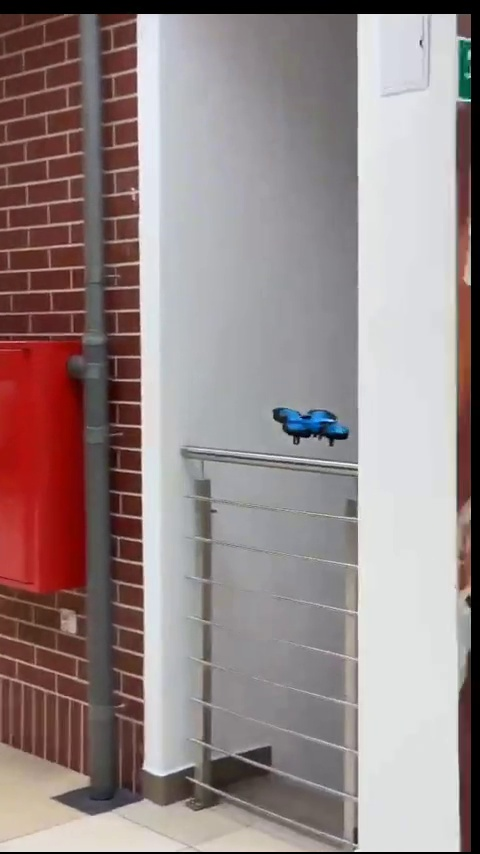drone: (273, 406, 351, 448)
